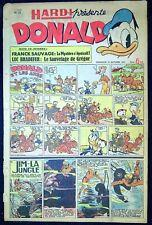paper: (3, 2, 148, 224)
